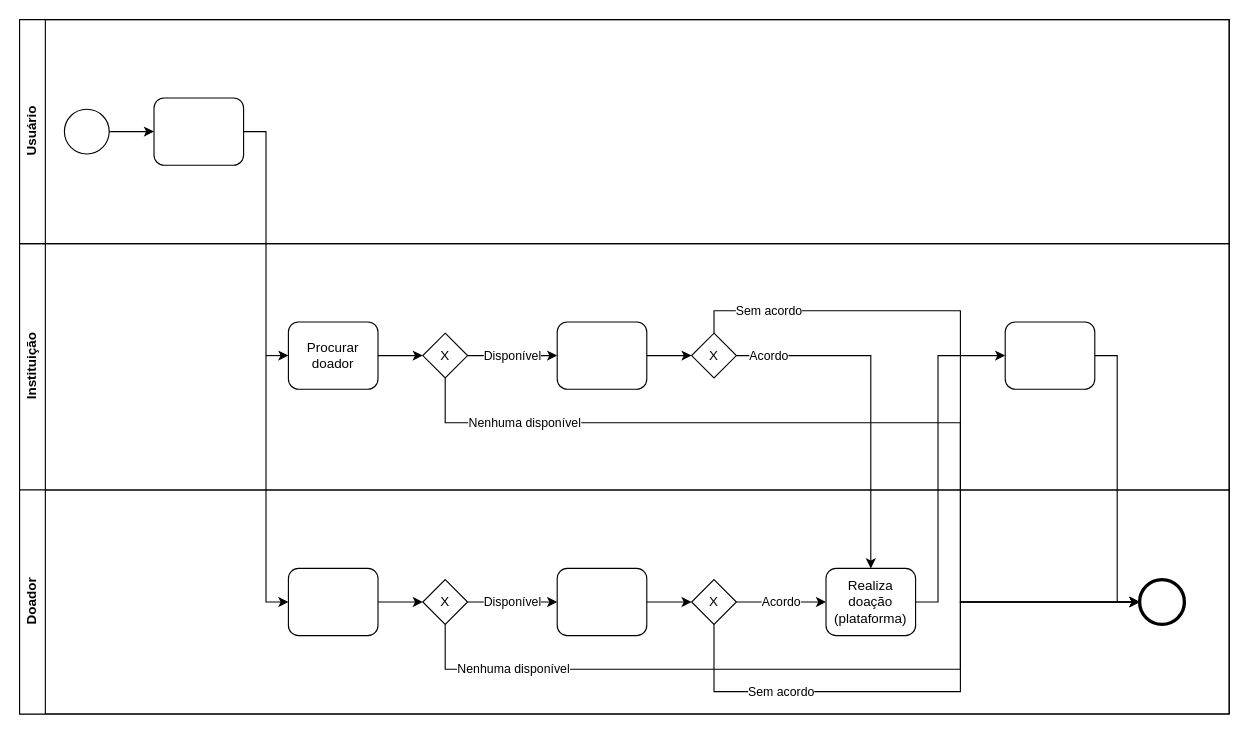
Some shapes in this 1260 by 745 pixel diagram are drawn without their labels. The shapes that lost their labels are listed below. From the top down, each one's centre as x and y in pixels, then its label:
At (x=198, y=131): "Cadastra doador/ instituição".
At (x=601, y=355): "Contata doador".
At (x=1049, y=355): "Recolhe taxas e impostos e emite nota (plataforma)".
At (x=332, y=601): "Procurar instituições".
At (x=601, y=601): "Contata instituição".
